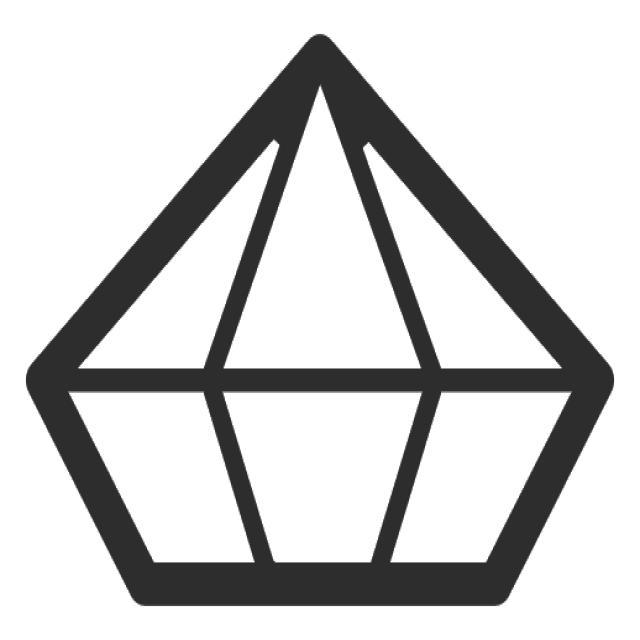diamond: (12, 19, 626, 620)
